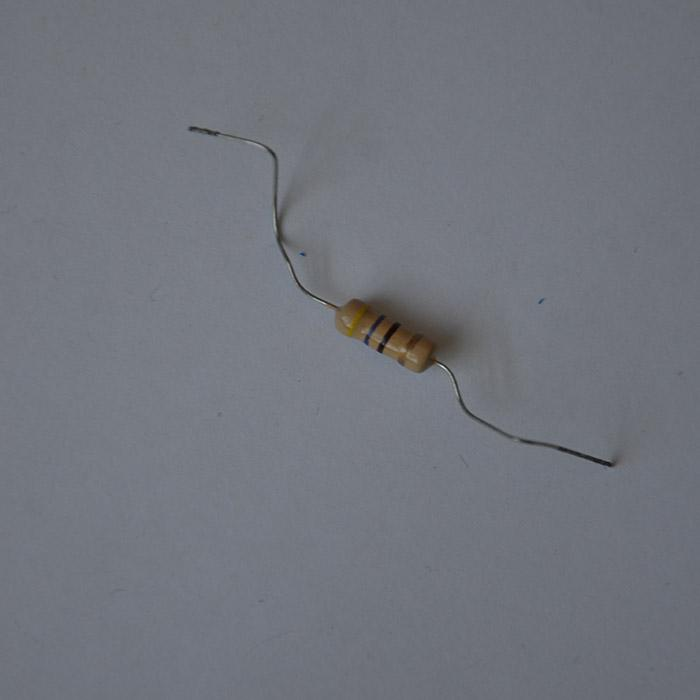resistor: (334, 297, 438, 373)
